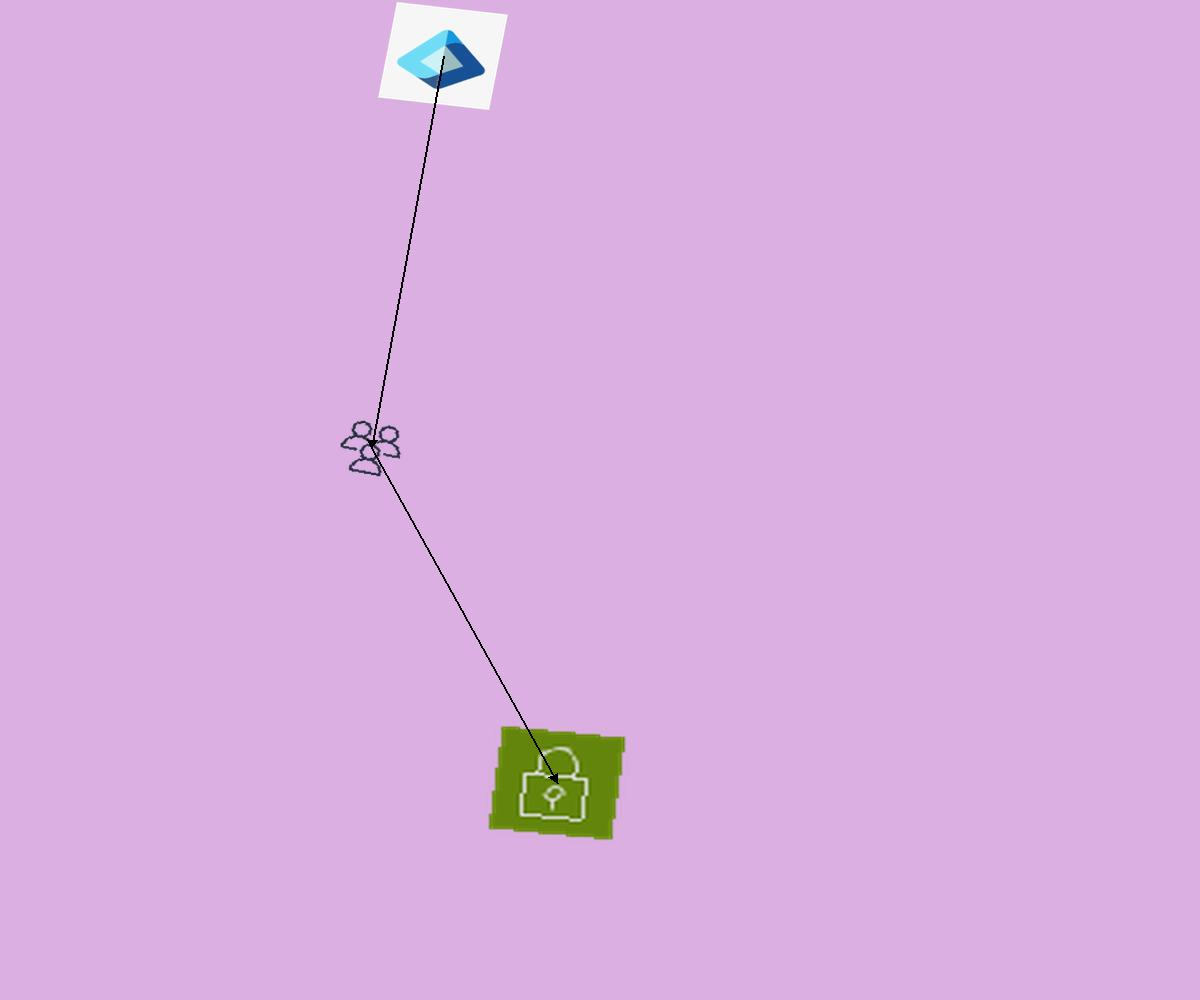AWS-Public-subnet: (486, 724, 628, 842)
AWS-Res_Users: (331, 415, 411, 482)
Azure_microsoft_entra: (378, 2, 508, 110)
